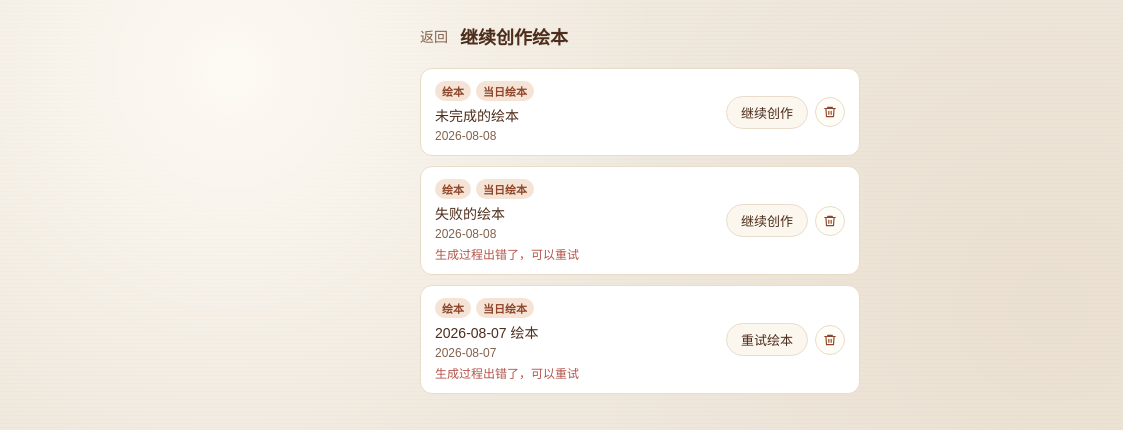
Scenario: UnfinishedWorks › a failed retry keeps the row and shows the stable safe feedback
Click the button "重试绘本" at [767, 340], box [726,323,808,356]
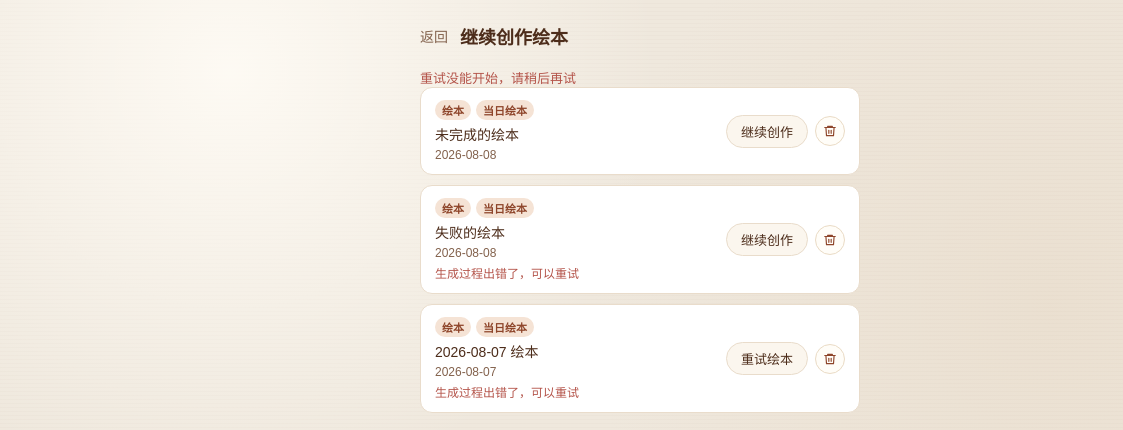
Expected: the text "2026-08-07 绘本" is shown, [435,344,538,360]
Now the text "重试没能开始，请稍后再试" is shown, box [420,71,576,86]
